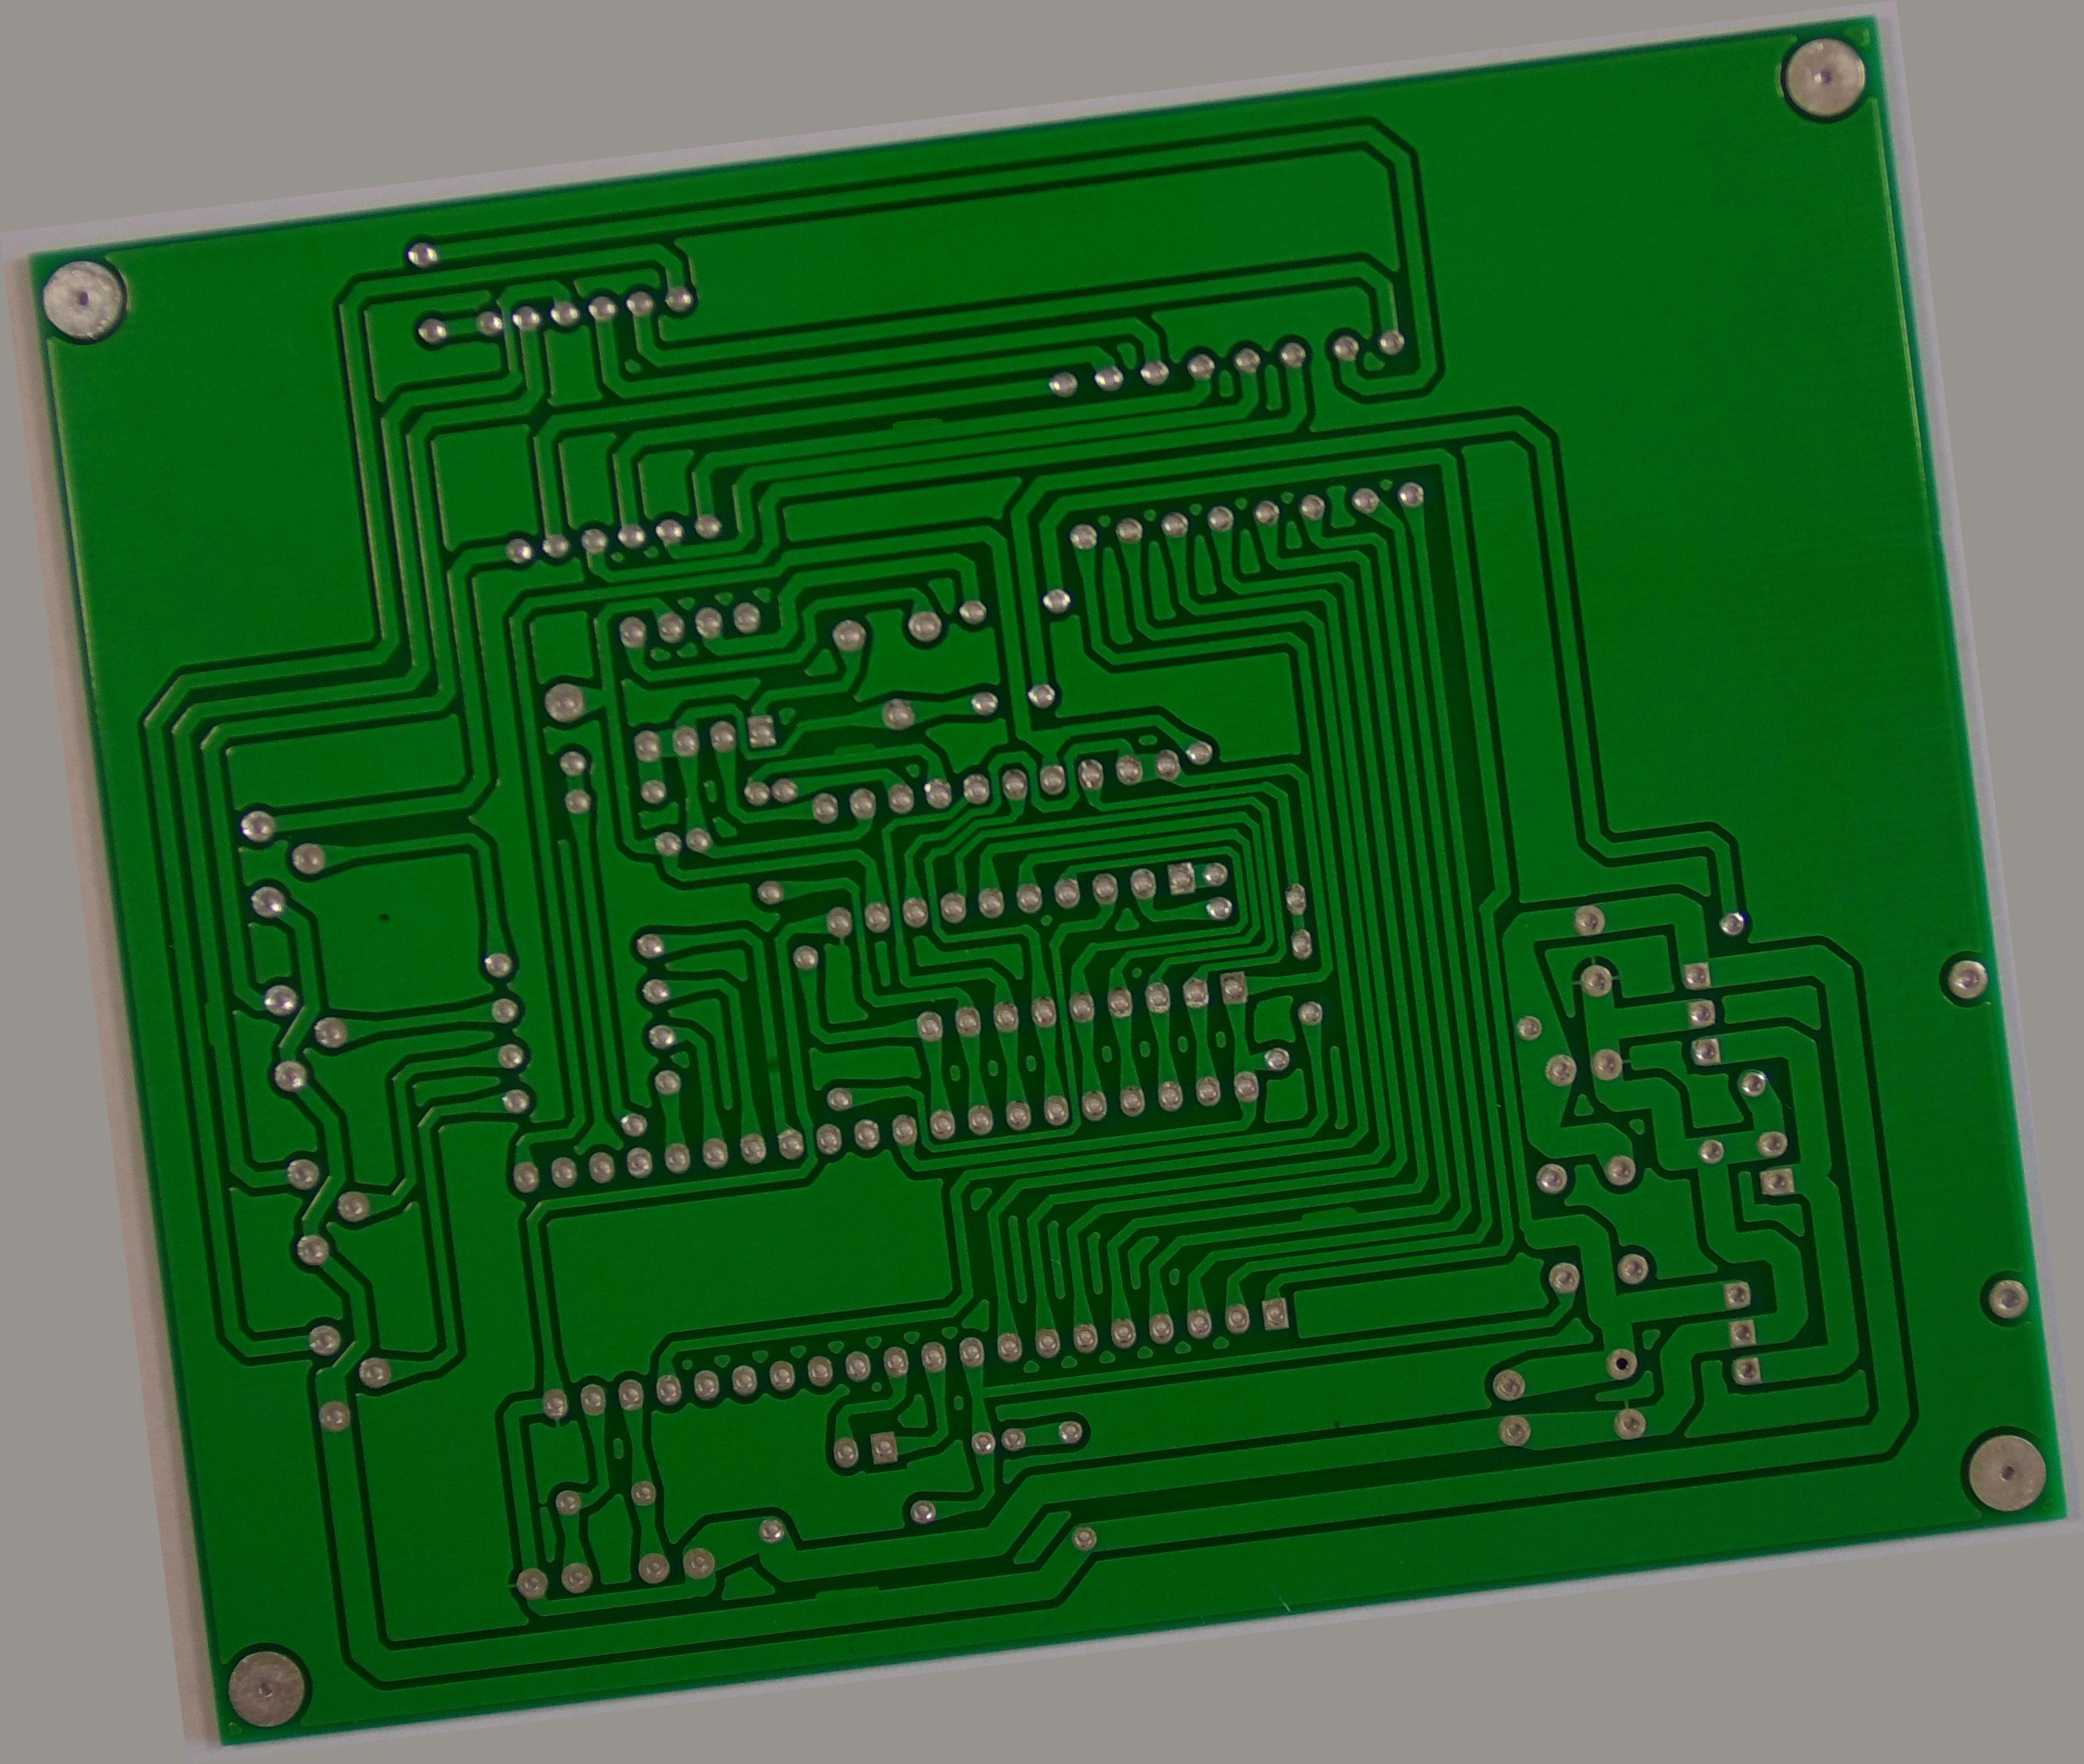spur: (691, 1641, 780, 1678), (1270, 1281, 1347, 1316), (931, 327, 1003, 362), (822, 689, 892, 717), (110, 896, 140, 957)
